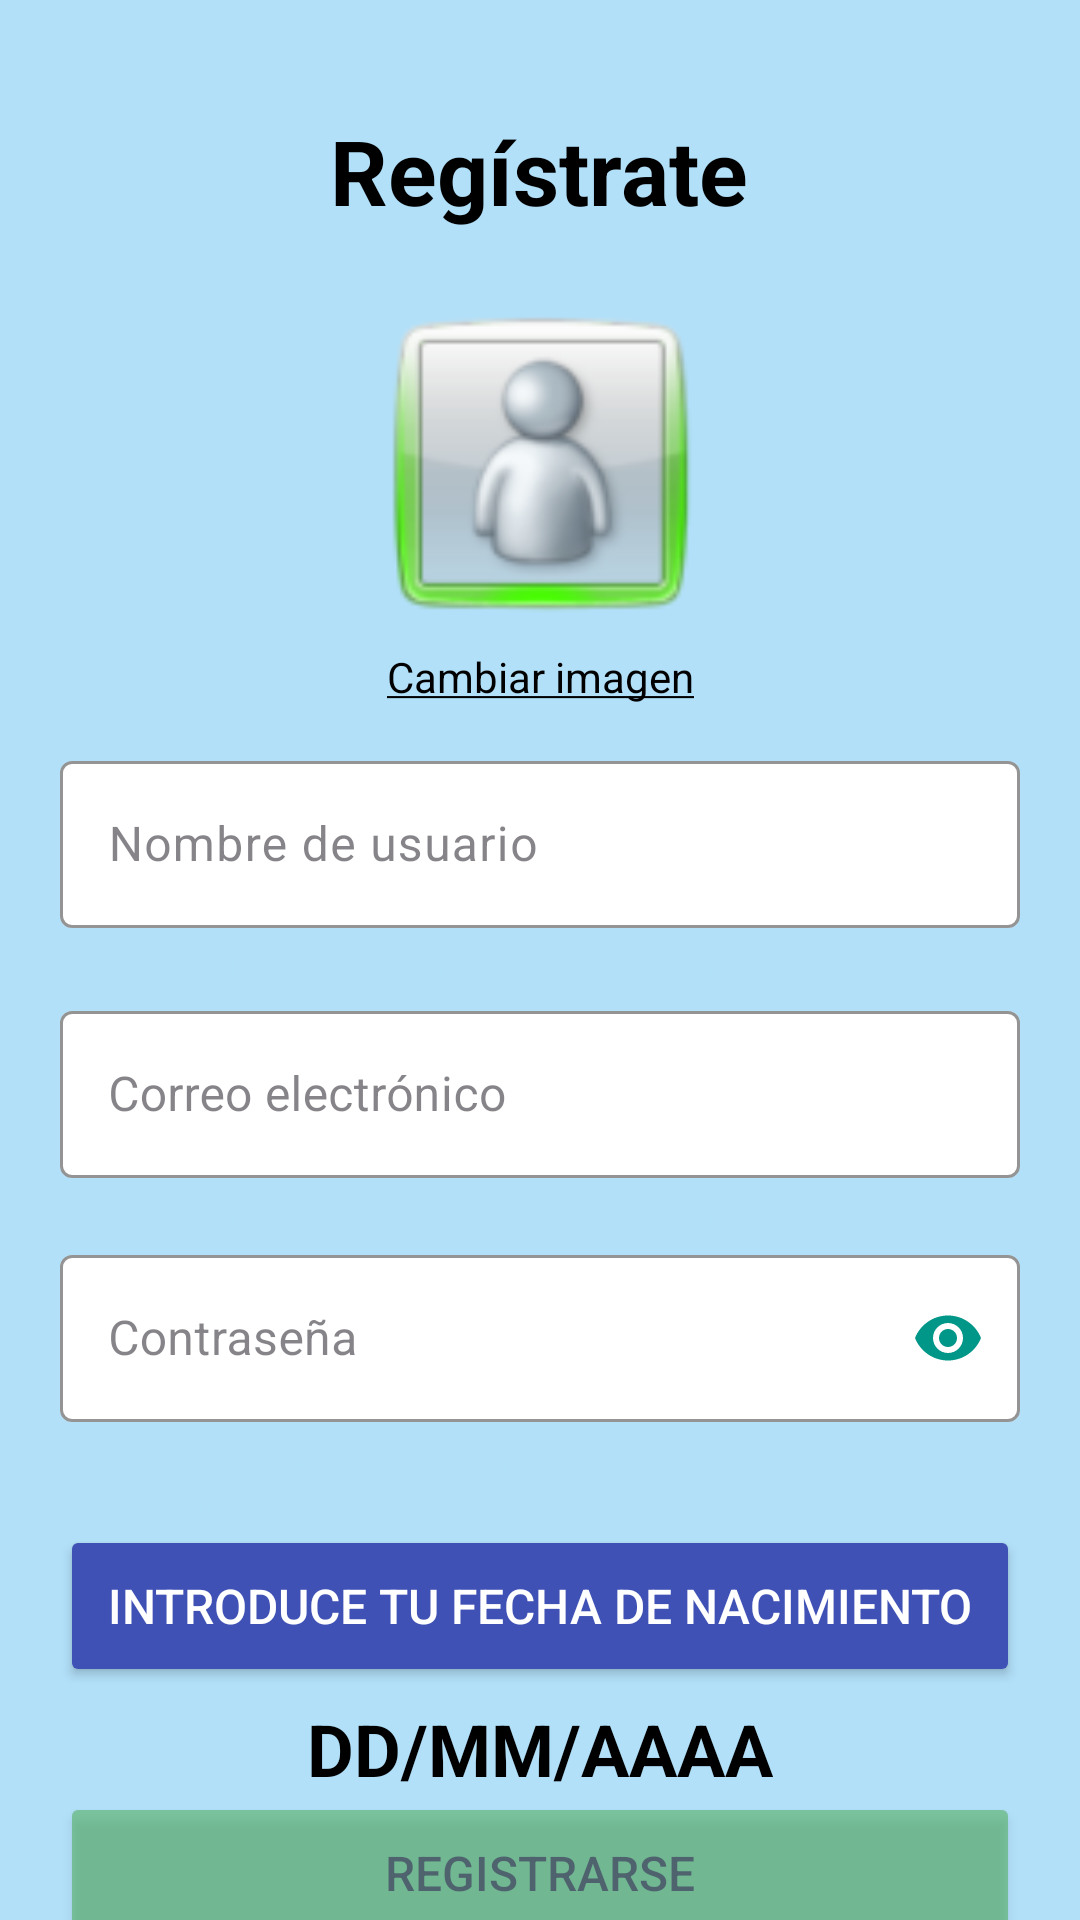

Icon click points for this 1080*1920 phone screenshot, format (x=x, y=y):
msn disponible: (x=541, y=464)
